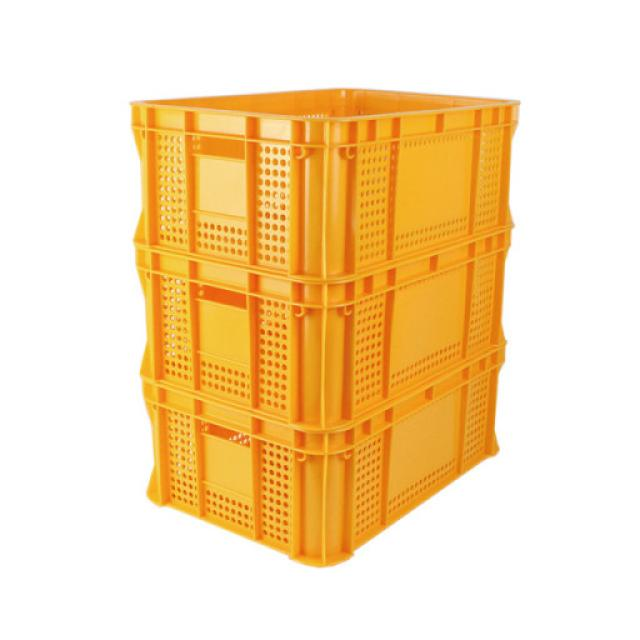basket: (109, 78, 520, 575)
